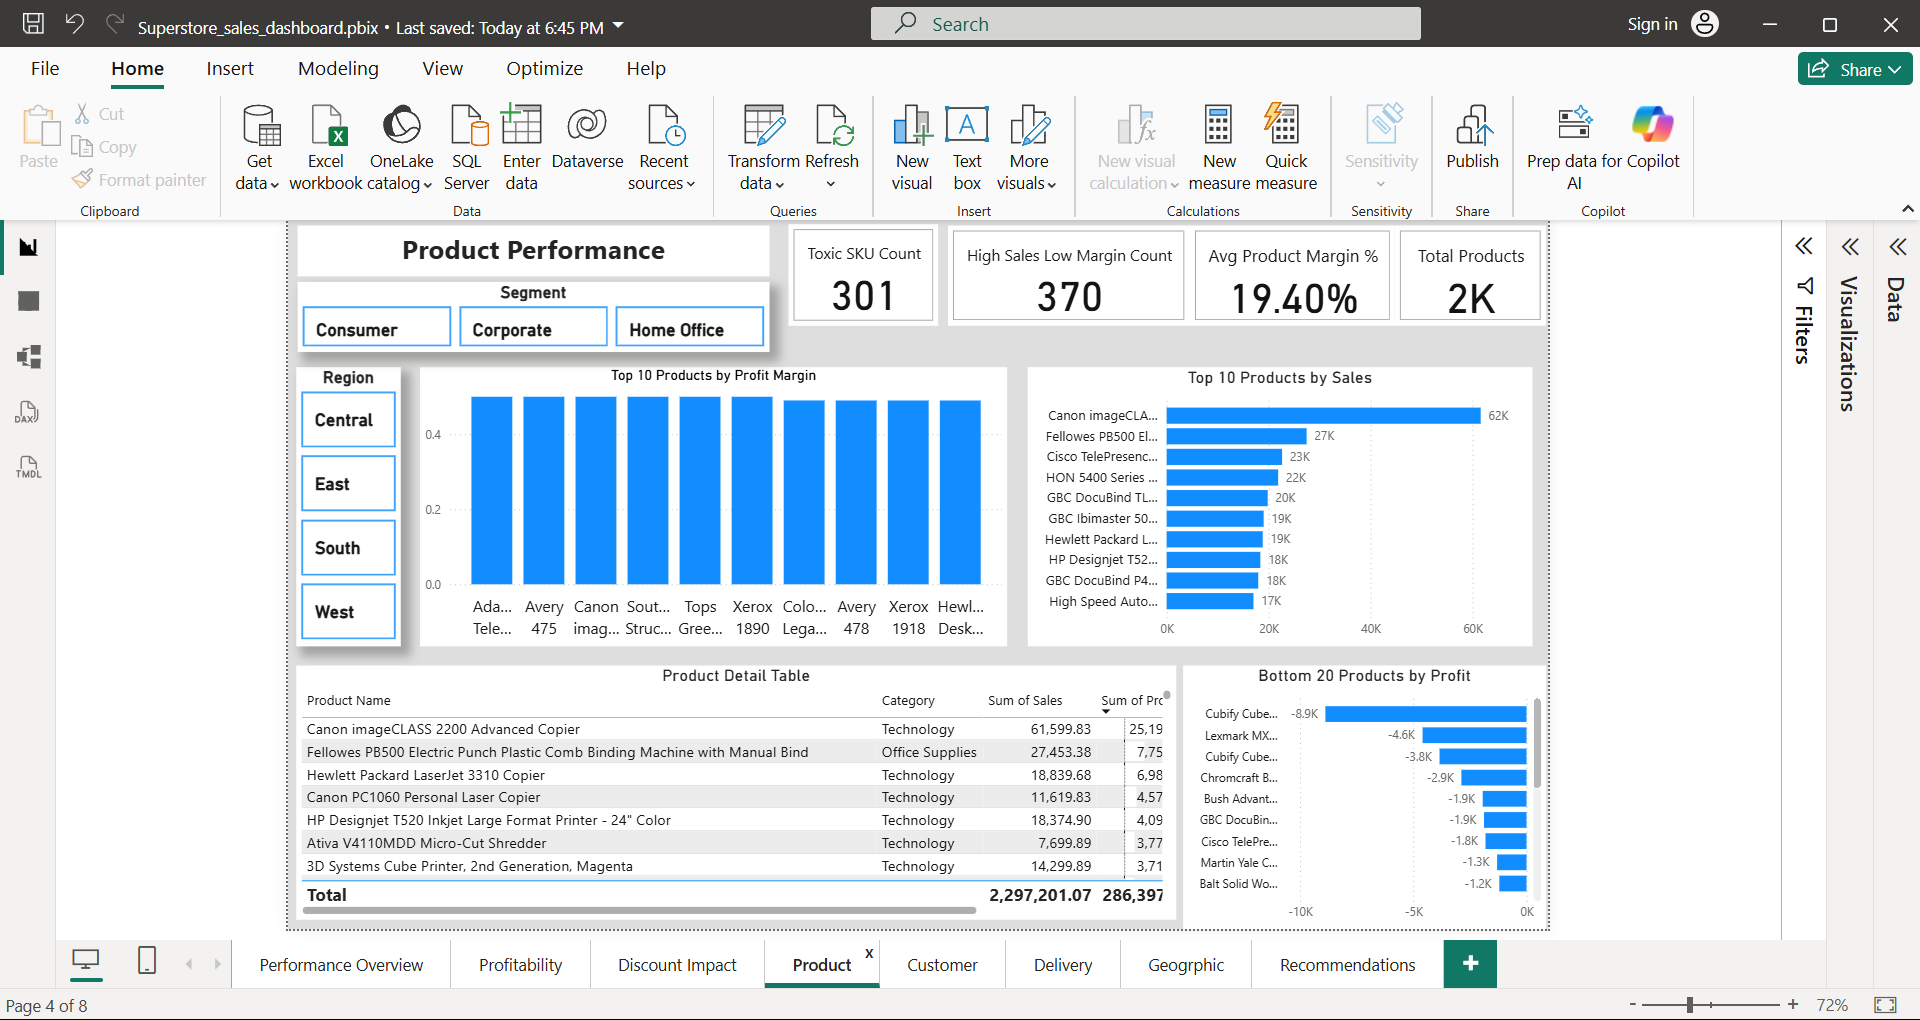

The dashboard page shown, as its layout file describes it:
{"tool":"powerbi","page":{"name":"Product","canvas":[1280,720],"ordinal":3},"visuals":[{"type":"cardVisual","fields":{"Data":["superstore.Toxic SKU Count"]},"box":[508.4,4.2,152.2,103.3],"z":0},{"type":"cardVisual","fields":{"Data":["superstore.High Sales Low Margin Count"]},"box":[670.4,5.6,245.8,102],"z":1000},{"type":"cardVisual","fields":{"Data":["superstore.Avg Product Margin %"]},"box":[916.2,5.6,208.1,102],"z":2000},{"type":"cardVisual","fields":{"Data":["superstore.Total Products"]},"box":[1124.3,5.6,153.6,102],"z":3000},{"type":"clusteredBarChart","title":"Top 10 Products by Sales","fields":{"Y":["Sum(superstore.Sales)"],"Category":["superstore.Product Name"]},"box":[751.4,149.4,512.6,283.5],"z":4000},{"type":"clusteredBarChart","title":"Bottom 20 Products by Profit","fields":{"Y":["Sum(superstore.Profit)"],"Category":["superstore.Product Name"]},"box":[909.2,452.5,368.7,268.2],"z":5000},{"type":"clusteredColumnChart","title":"Top 10 Products by Profit Margin","fields":{"Category":["superstore.Product Name"],"Y":["superstore.Profit Margin %"]},"box":[134.1,149.4,596.4,283.5],"z":6000},{"type":"tableEx","title":"Product Detail Table","fields":{"Values":["superstore.Product Name","superstore.Category","Sum(superstore.Sales)","Sum(superstore.Profit)","superstore.Profit Margin %","superstore.Avg Discount %"]},"box":[8.4,452.5,893.8,258.4],"z":7000},{"type":"advancedSlicerVisual","fields":{"Values":["superstore.Region"]},"box":[8.4,149.4,106.1,283.5],"z":8000},{"type":"advancedSlicerVisual","fields":{"Values":["superstore.Segment"]},"box":[9.8,62.8,479,71.2],"z":9000},{"type":"textbox","box":[9.8,5.6,479,51.7],"z":10000}]}

Visuals, with their boxes on the page's 1280x720 design canvas (x1, y1, x2, y2). These are canvas units, not pixel positions in the 1920x1020 screenshot, which may show the page scaled, cropped or inside an application window:
cardVisual - superstore.Toxic SKU Count: rect(508, 4, 661, 108)
cardVisual - superstore.High Sales Low Margin Count: rect(670, 6, 916, 108)
cardVisual - superstore.Avg Product Margin %: rect(916, 6, 1124, 108)
cardVisual - superstore.Total Products: rect(1124, 6, 1278, 108)
"Top 10 Products by Sales" clusteredBarChart: rect(751, 149, 1264, 433)
"Bottom 20 Products by Profit" clusteredBarChart: rect(909, 452, 1278, 721)
"Top 10 Products by Profit Margin" clusteredColumnChart: rect(134, 149, 730, 433)
"Product Detail Table" tableEx: rect(8, 452, 902, 711)
advancedSlicerVisual - superstore.Region: rect(8, 149, 114, 433)
advancedSlicerVisual - superstore.Segment: rect(10, 63, 489, 134)
textbox: rect(10, 6, 489, 57)
